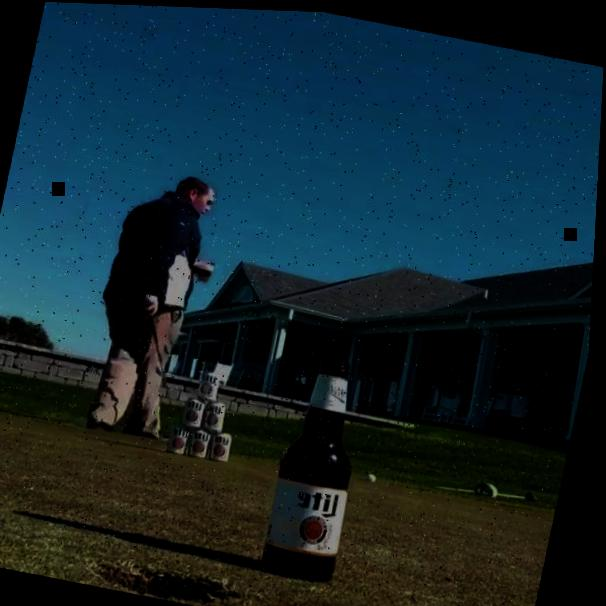GolfBall: (370, 470, 381, 479)
